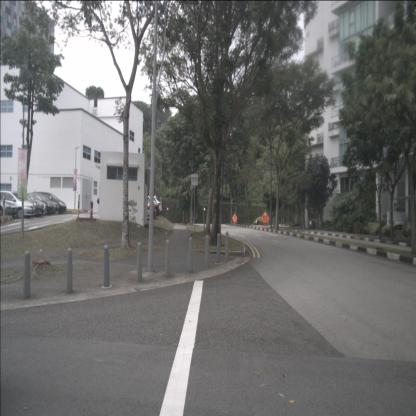vehicle-car: (0, 190, 36, 220), (22, 192, 59, 216), (6, 194, 44, 217), (31, 192, 66, 214), (24, 193, 55, 216), (0, 200, 17, 219), (253, 216, 269, 226), (309, 219, 319, 226)
